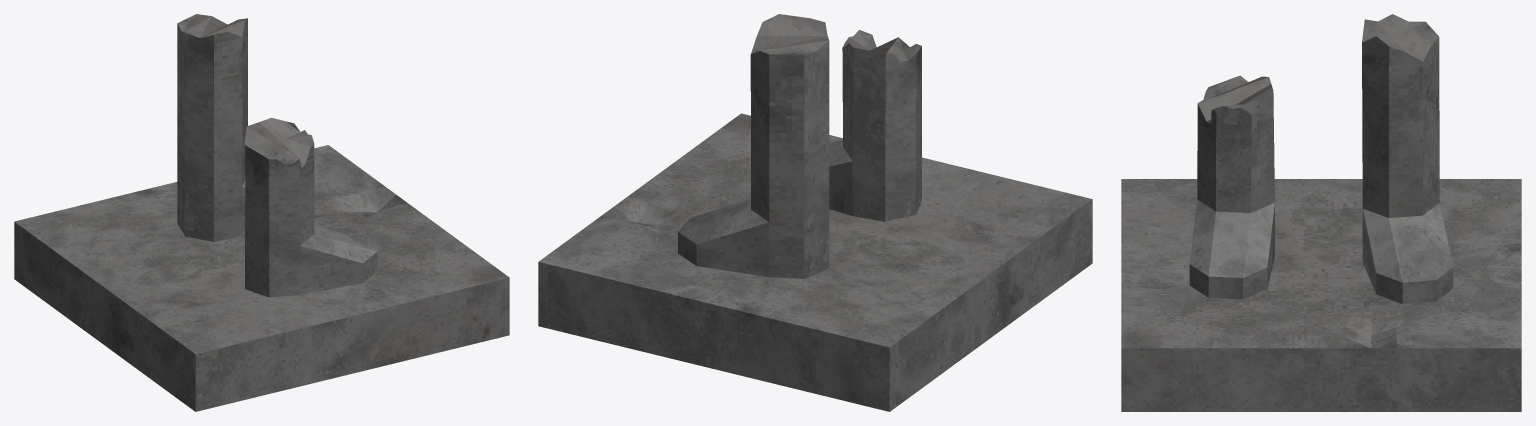
File: broken_statue.glb
The picture shows the model from 3 angles, left to right: view 1: azimuth 30°, elevation 25°; view 2: azimuth 150°, elevation 25°; view 3: azimuth 270°, elevation 25°; orthographic projection. The views are drawn at different scales.
Parts seen in each view (by area): view 1: Stand, LFoot, RFoot; view 2: Stand, LFoot, RFoot; view 3: Stand, LFoot, RFoot.
Boxes of the visible parts, x1,y1,x2,y2 form: Stand: (14,145,509,411); LFoot: (177,14,247,241); RFoot: (244,117,377,297); Stand: (538,113,1092,411); LFoot: (678,14,829,278); RFoot: (829,29,921,221); Stand: (1121,179,1521,411); LFoot: (1362,14,1453,303); RFoot: (1189,75,1274,299).
Size of the model in its own units: 2 by 1.63 by 2.
Materials: 1 (1 with a texture image).
